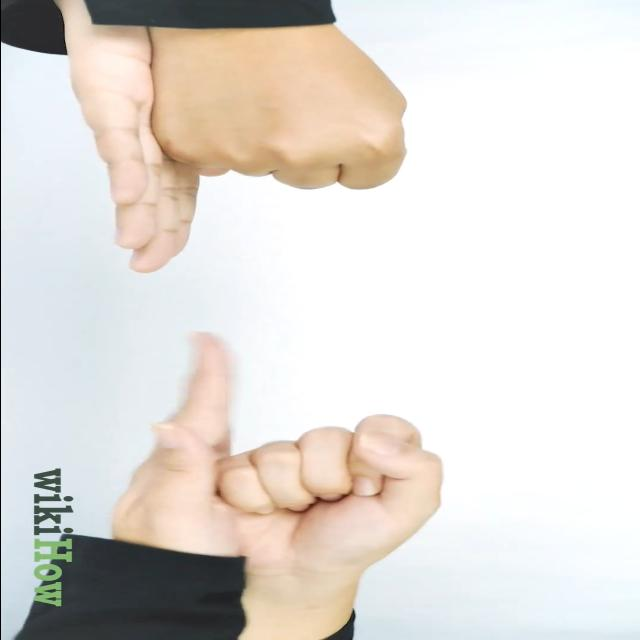Rock: (146, 27, 418, 190), (172, 418, 408, 586)
